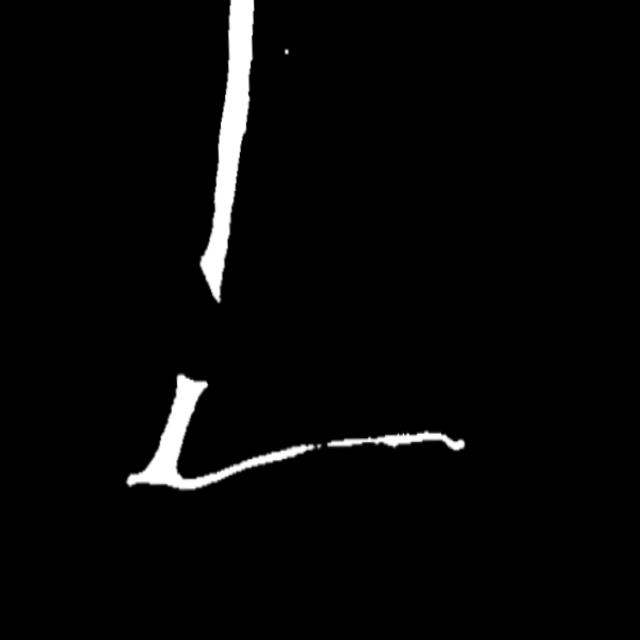inf: (292, 429, 337, 465)
